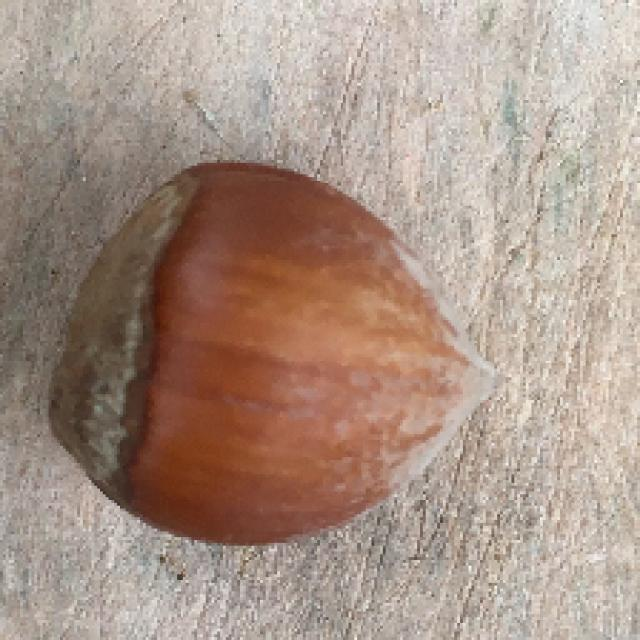qualityHazelnut: (45, 153, 506, 549)
